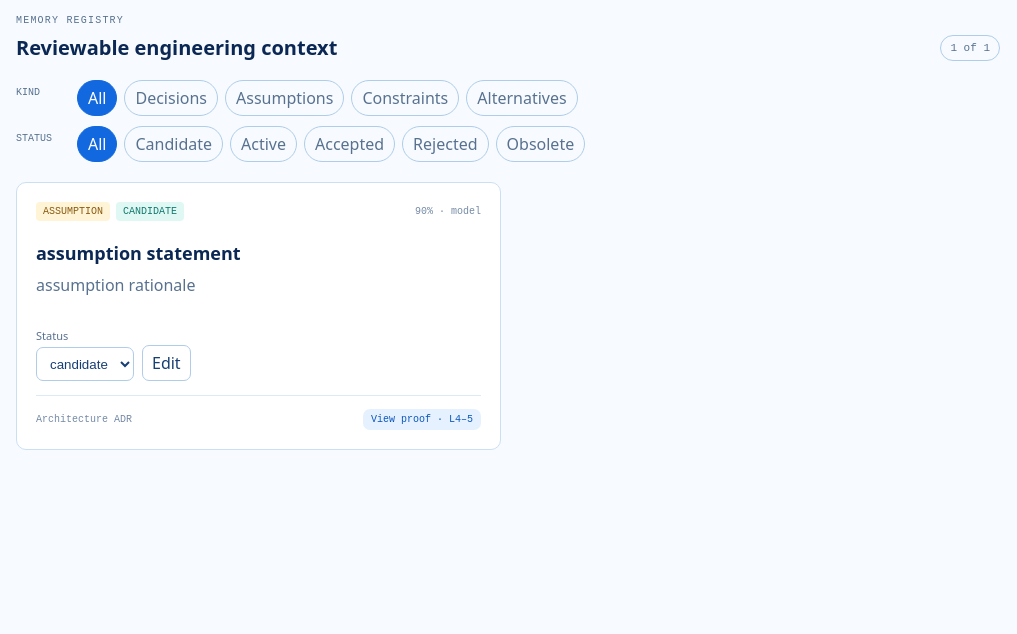
Scenario: MemoryView › cancels a correction without mutating memory
Click the button with aria-label "Edit assumption: assumption statement".
click(166, 363)  # box [142,345,191,381]
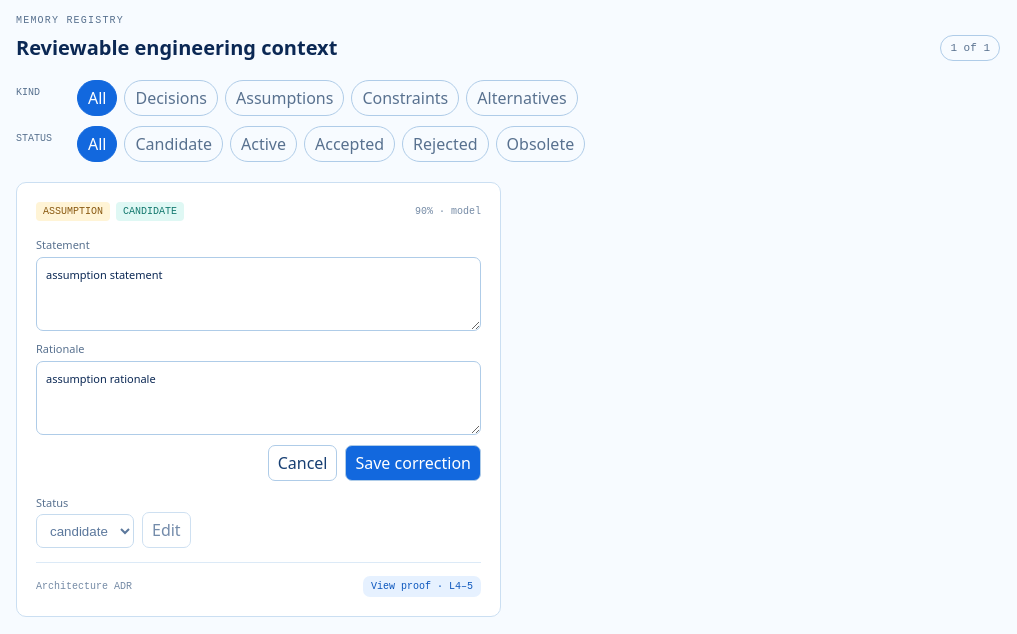
Replace the text in the text box labelled "Statement" with "Discard this edit" at [258, 294], box [36,257,481,331]
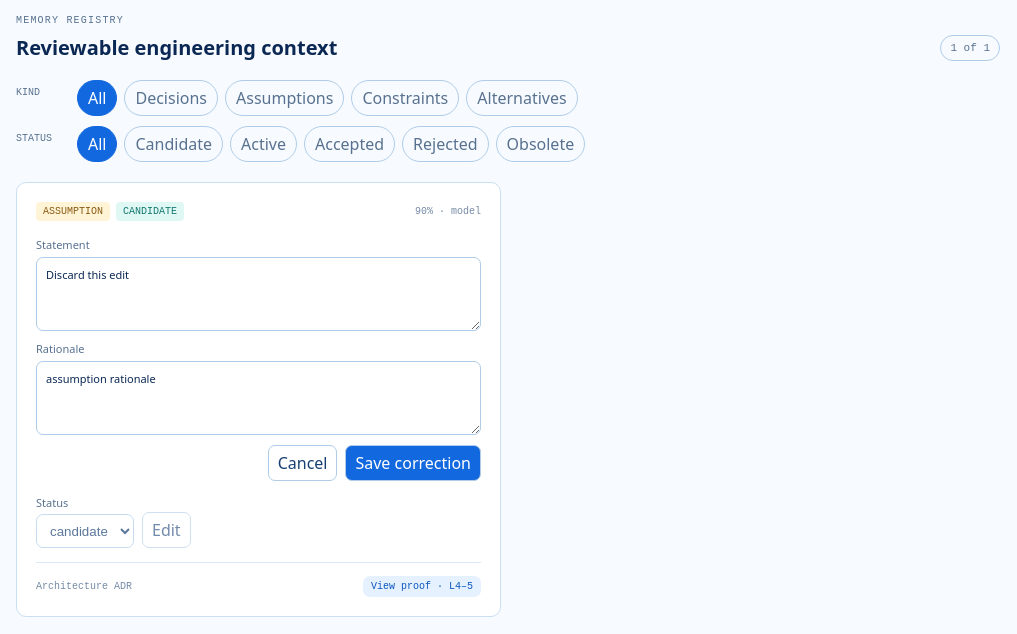
Click the button "Cancel".
click(303, 463)  # box [268,445,338,481]
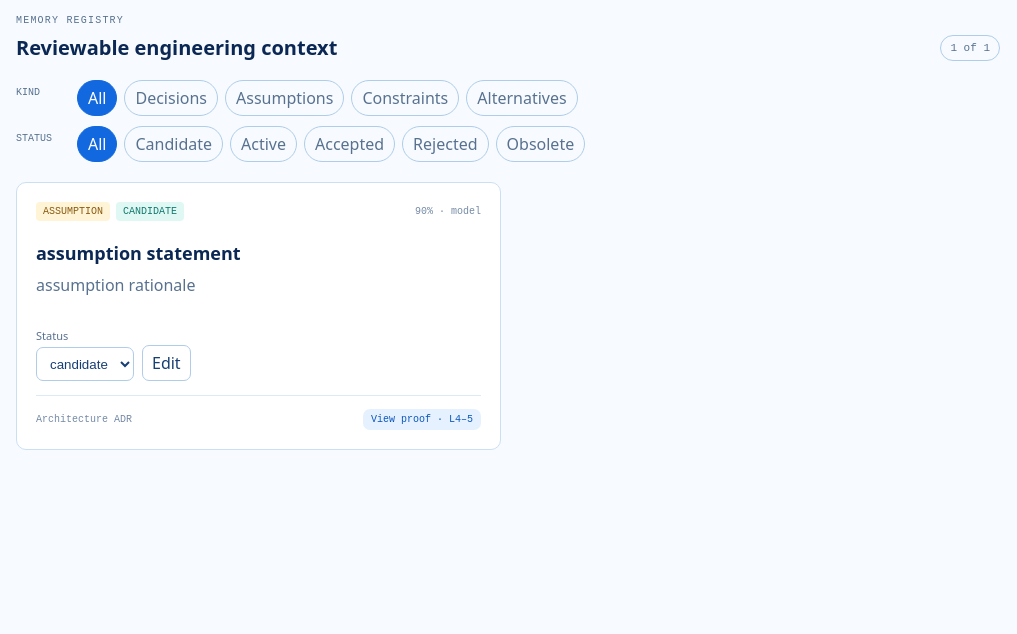
Expected: the heading "assumption statement" is shown, [36,241,241,265]
